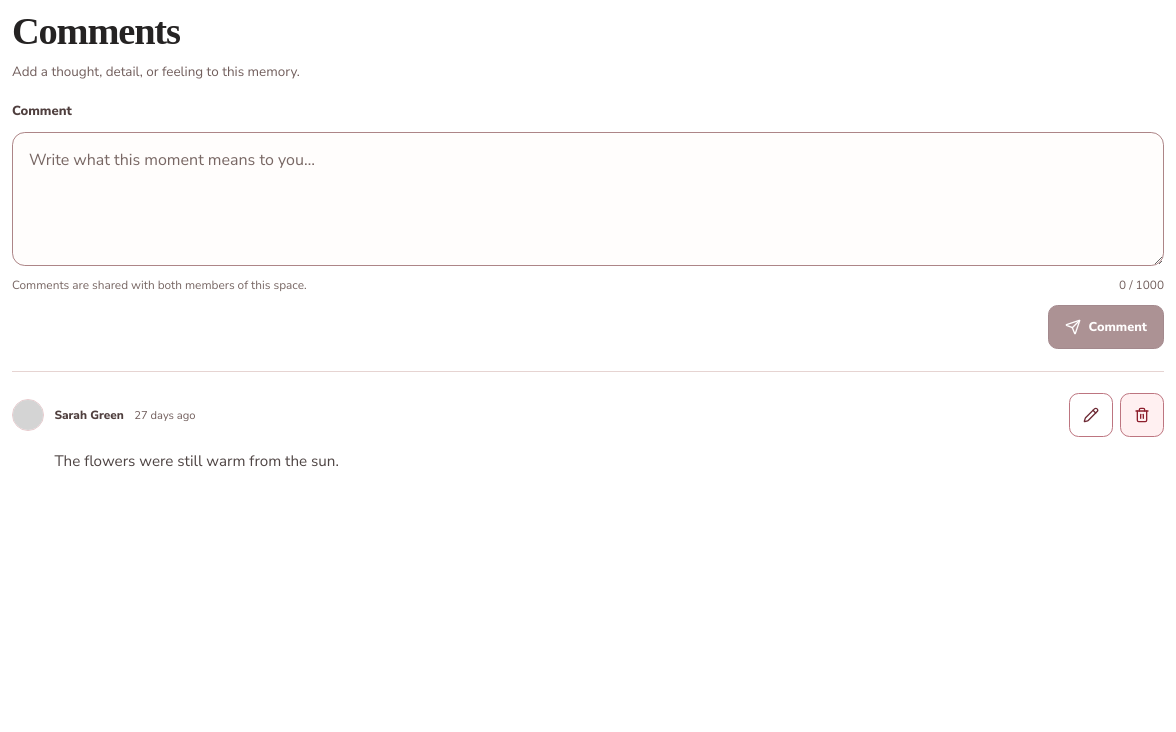
MemoryComments › lets only an author edit and reconciles a successful keyboard save
The image size is (1176, 732).
Click the button named "Edit" at (1091, 415), box [1069, 393, 1113, 437]
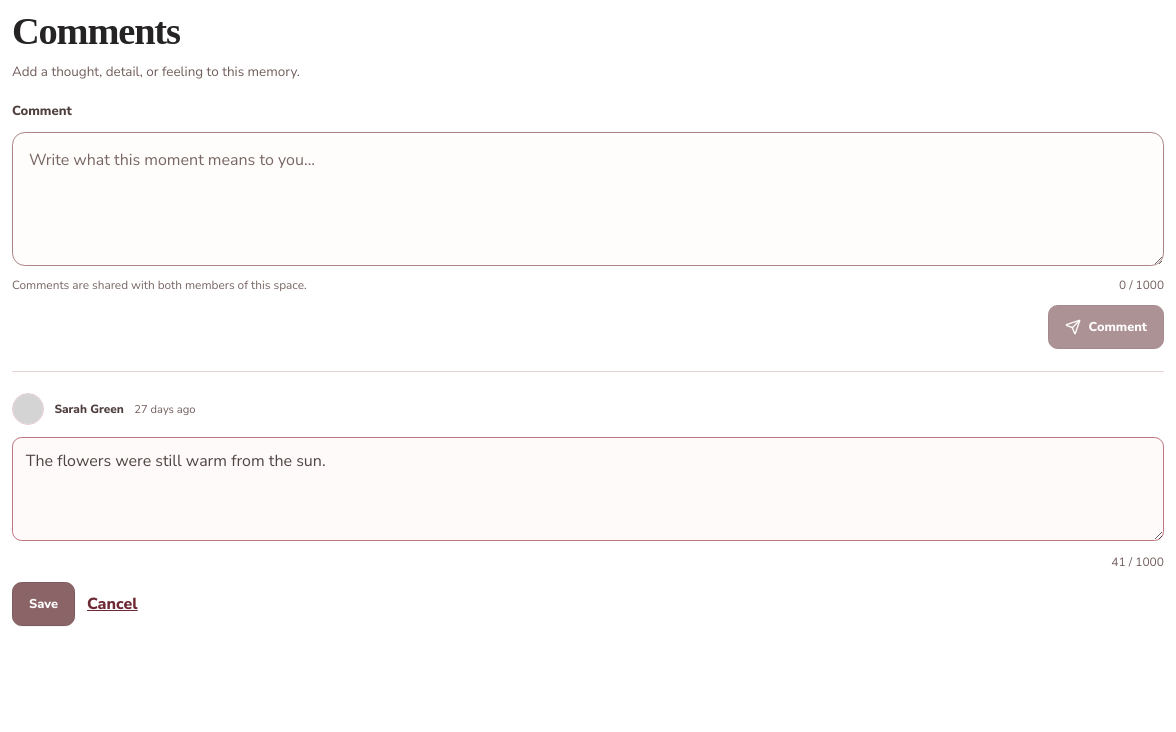
Replace the text in the text box named "Edit comment by Sarah Green" with "The flowers were brighter than I remembered." at (588, 489), box [12, 437, 1164, 541]
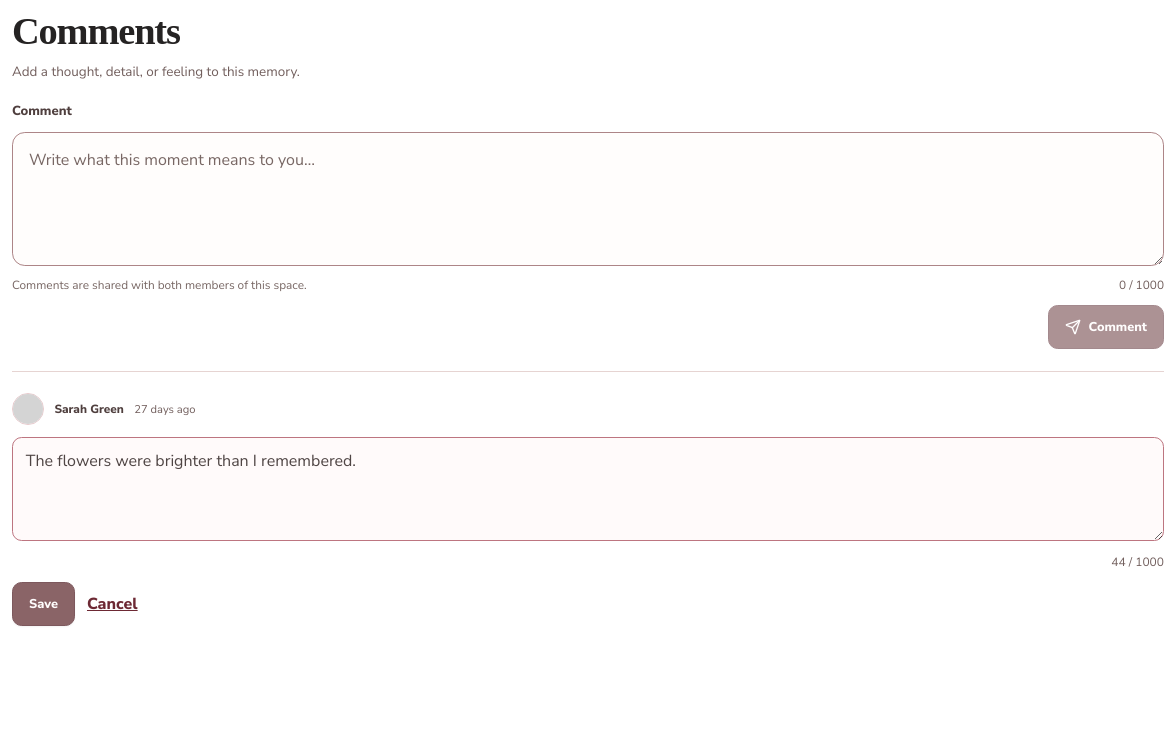
Submit the form named "Edit comment by Sarah Green", box [12, 437, 1164, 626]
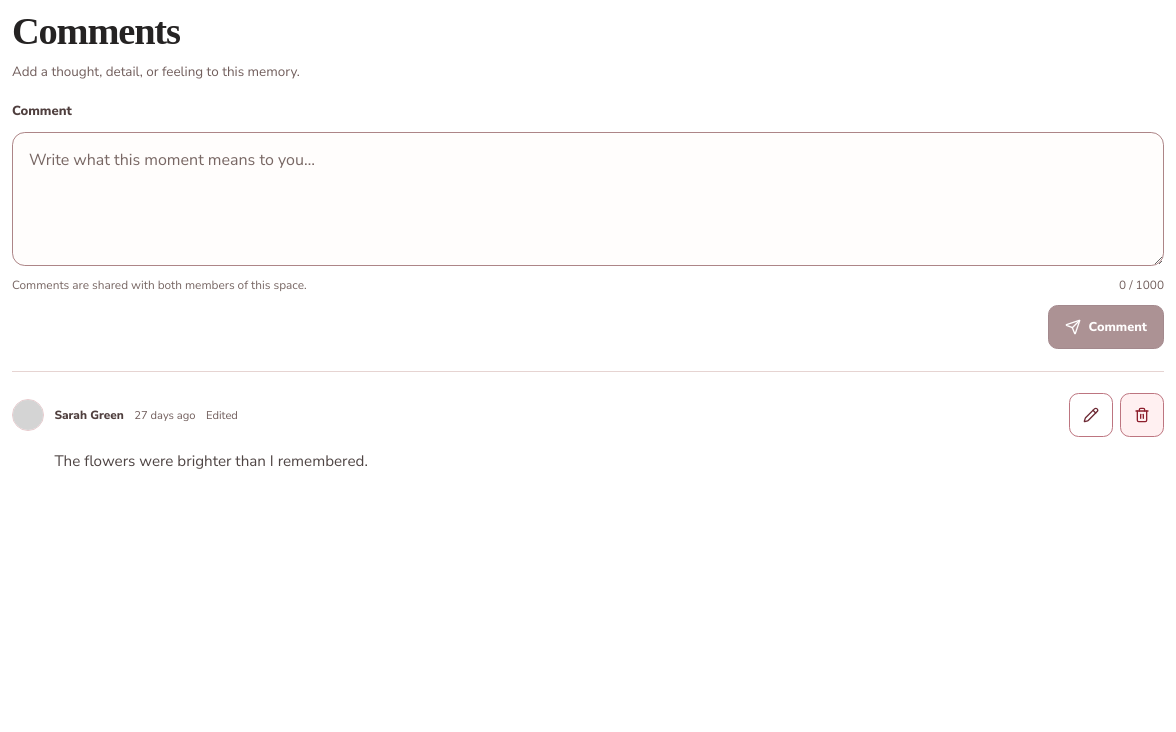
expect the text "The flowers were brighter than I remembered." is shown: met, box [54, 451, 368, 471]
expect the text "Edited" is shown: met, box [206, 408, 238, 424]
